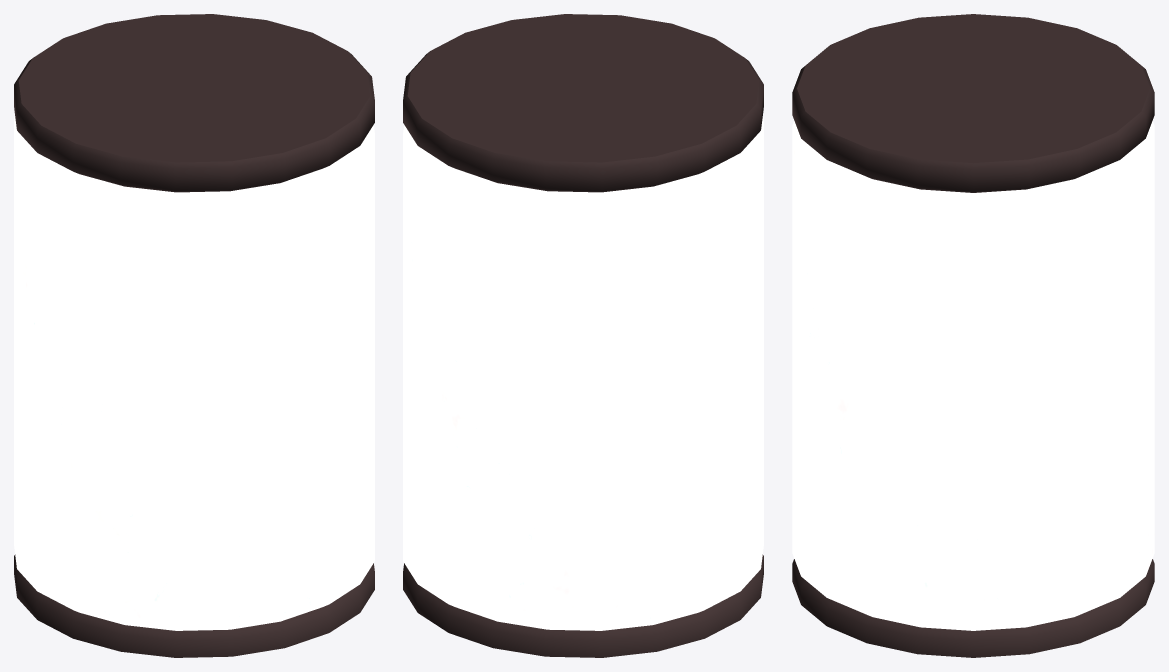
File: 008_pillar_var1.glb
3 renders of one model, left to right at view 1: azimuth 30°, elevation 25°; view 2: azimuth 150°, elevation 25°; view 3: azimuth 270°, elevation 25°, orthographic.
Visible parts, largest first — view 1: pillar; view 2: pillar; view 3: pillar.
Part boxes in pixels (box(x1,y1,x2,y2)): pillar: box(14, 14, 374, 657); pillar: box(403, 14, 763, 657); pillar: box(792, 14, 1154, 657).
Bounding box in the file's own units: 0.75 × 1.12 × 0.75.
2 materials, 1 textured.
